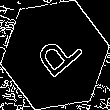P_SW: (26, 25, 84, 85)
